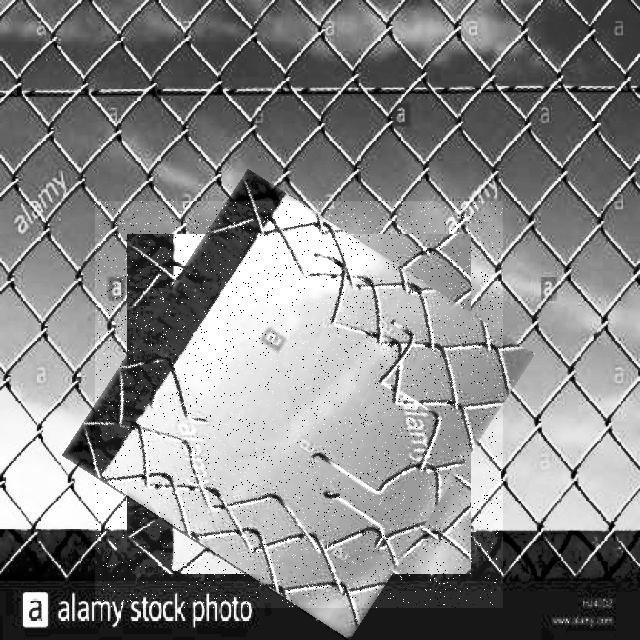anomaly-fence: (95, 201, 503, 608)
